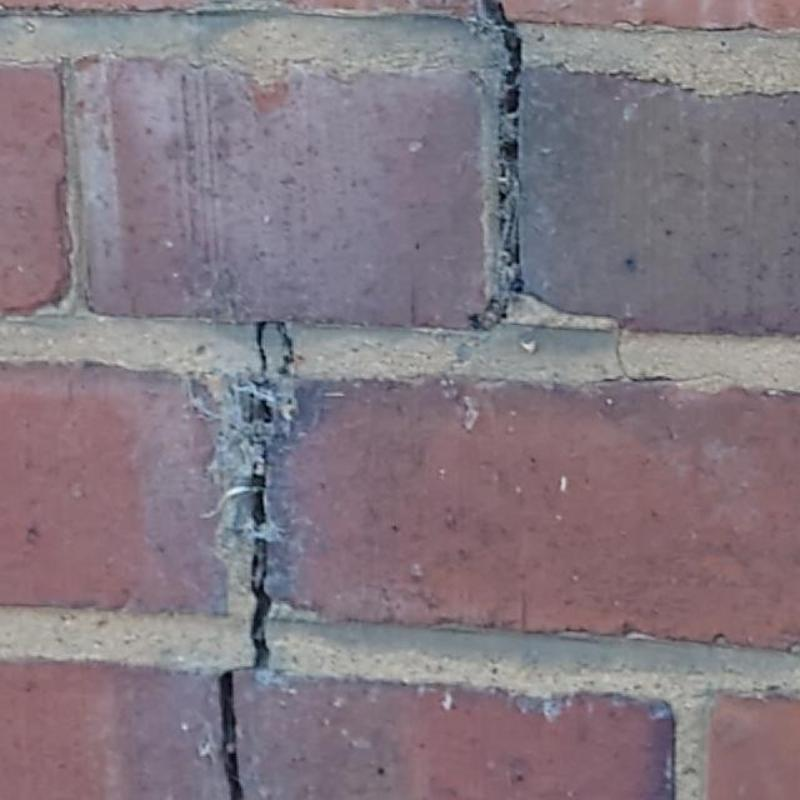pothole: (236, 324, 295, 672), (518, 290, 729, 382), (477, 0, 522, 323), (220, 672, 243, 799)
